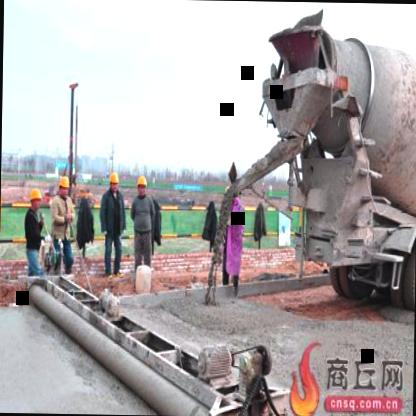helmet: (27, 184, 42, 214), (136, 172, 148, 199), (58, 173, 69, 200), (107, 170, 119, 194)
